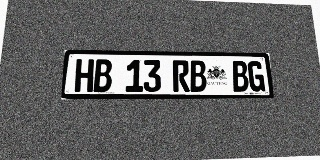1: (126, 60, 143, 92)
3: (144, 60, 161, 92)
B: (93, 59, 112, 92), (189, 60, 207, 92), (231, 61, 249, 92)
G: (247, 61, 265, 92)
H: (74, 59, 94, 92)
R: (172, 60, 190, 92)
